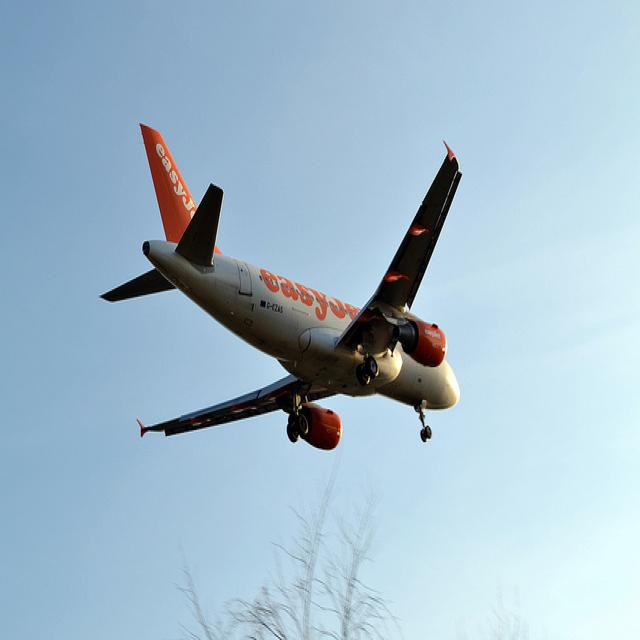airplane: (98, 122, 465, 452)
